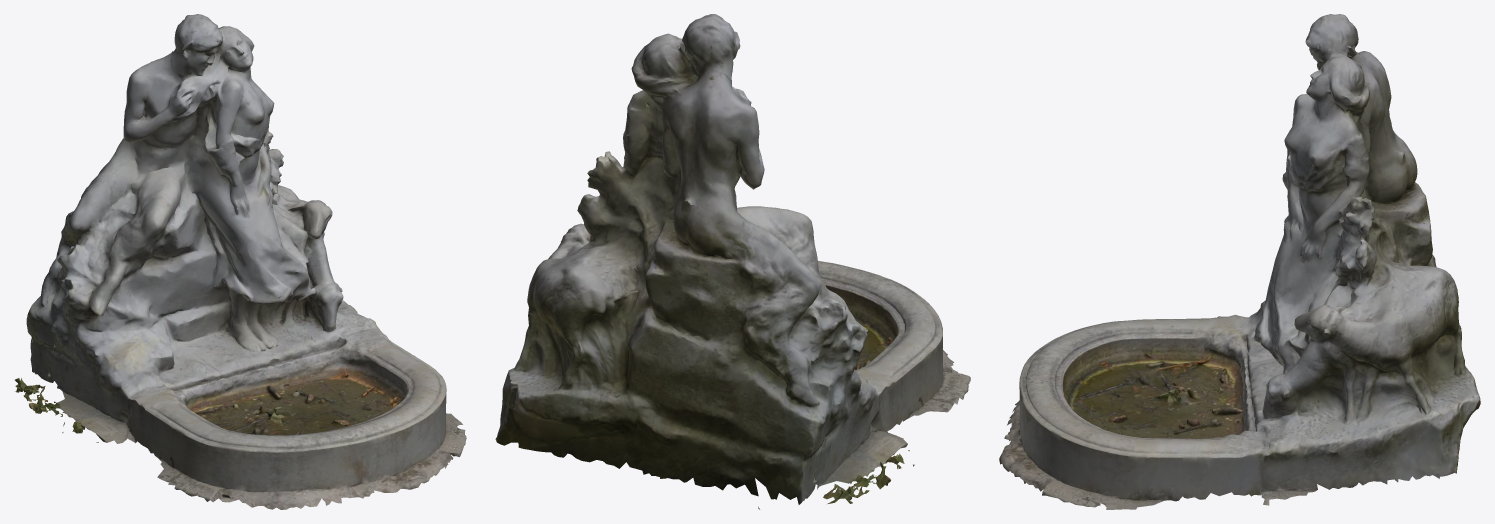
The model's file is preview.glb.
The picture shows the model from 3 angles, left to right: view 1: azimuth 30°, elevation 25°; view 2: azimuth 150°, elevation 25°; view 3: azimuth 270°, elevation 25°; orthographic projection. The views are drawn at different scales.
Parts seen in each view (by area): view 1: Object_2; view 2: Object_2; view 3: Object_2.
Part boxes in pixels (x1,y1,x2,y2): Object_2: [15, 14, 466, 509]; Object_2: [495, 14, 970, 509]; Object_2: [999, 14, 1480, 509].
Bounding box in the file's own units: 15.18 × 16.61 × 17.59.
Materials: 1 (1 with a texture image).
